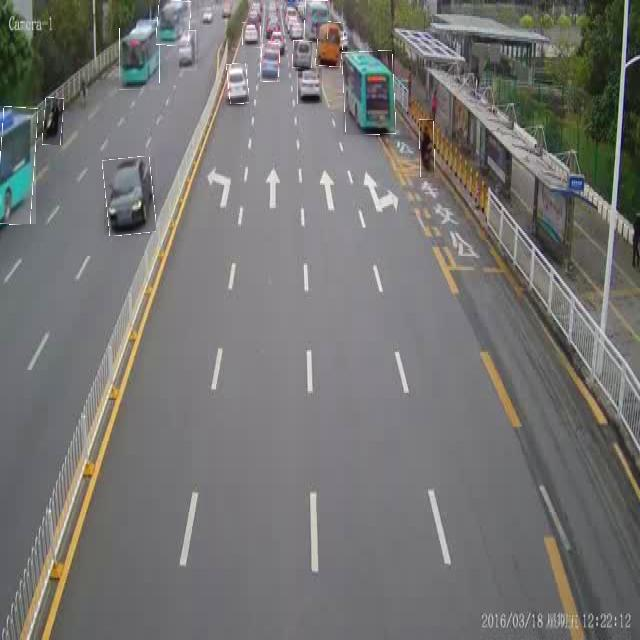Bus: (343, 50, 395, 135), (0, 106, 36, 224), (119, 20, 160, 90), (156, 0, 190, 45), (316, 22, 343, 66), (305, 0, 328, 39)
Car: (104, 157, 155, 235), (297, 68, 322, 104), (227, 64, 248, 104), (260, 44, 280, 82), (180, 30, 198, 71), (293, 41, 312, 68), (243, 22, 261, 48)
Motorcycle: (419, 119, 435, 178), (43, 98, 63, 145)
